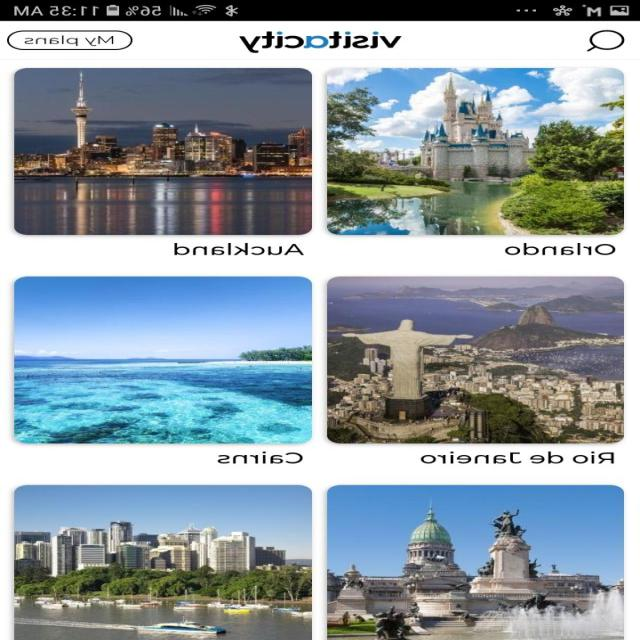Icon: (586, 30, 626, 52)
Image: (14, 68, 313, 235), (14, 276, 312, 443), (327, 68, 625, 235), (327, 276, 624, 443), (15, 484, 313, 640), (327, 484, 625, 640), (239, 31, 403, 53)
Text: (421, 451, 615, 464), (174, 243, 304, 255), (505, 242, 616, 255), (218, 451, 304, 464)
TextButton: (7, 30, 133, 50)
